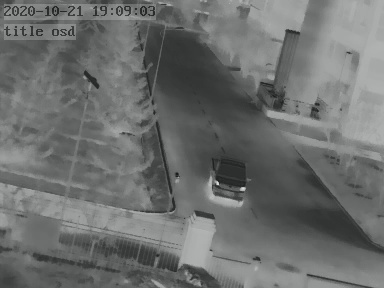vehicle: (203, 158, 251, 208)
